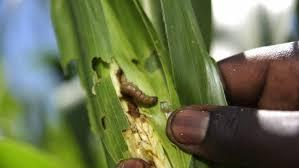fallarmy_worm: (118, 75, 175, 109)
